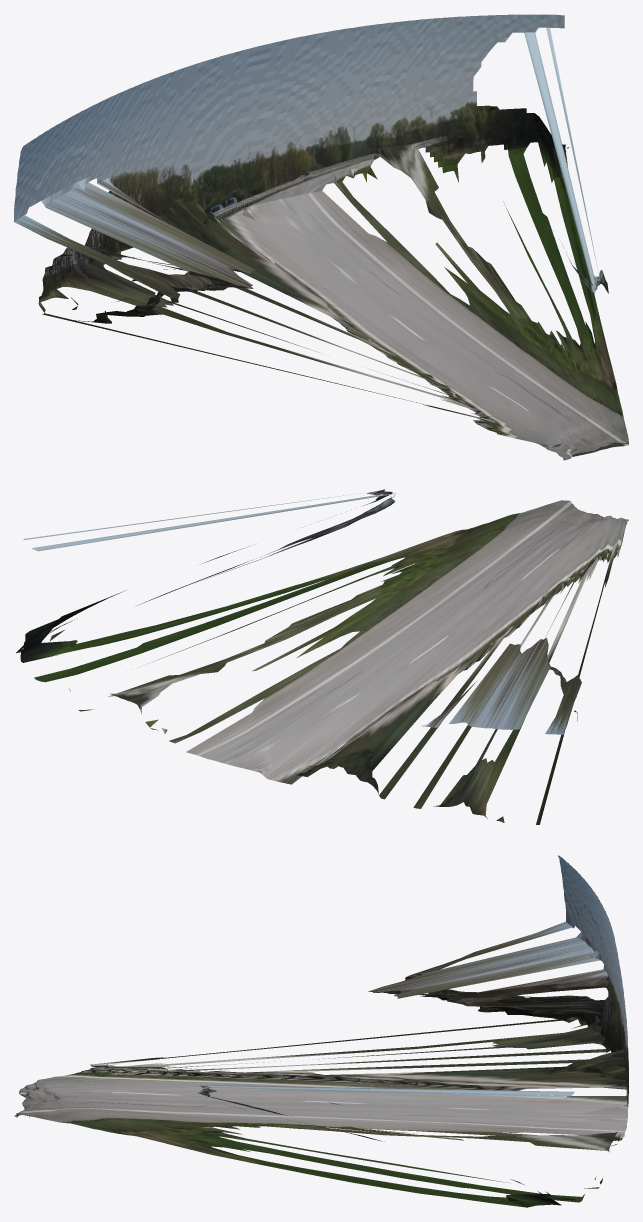
3 renders of one model, top to bottom at view 1: azimuth 30°, elevation 25°; view 2: azimuth 150°, elevation 25°; view 3: azimuth 270°, elevation 25°, orthographic. The views are drawn at different scales.
Visible parts, largest first — view 1: defaultobject; view 2: defaultobject; view 3: defaultobject.
Boxes of the visible parts, box(x1,y1,x2,y2) form: defaultobject: box(14, 14, 628, 460); defaultobject: box(16, 489, 628, 824); defaultobject: box(14, 855, 628, 1207).
Size of the model in its own units: 40.88 by 13.25 by 44.75.
1 material, 1 textured.
